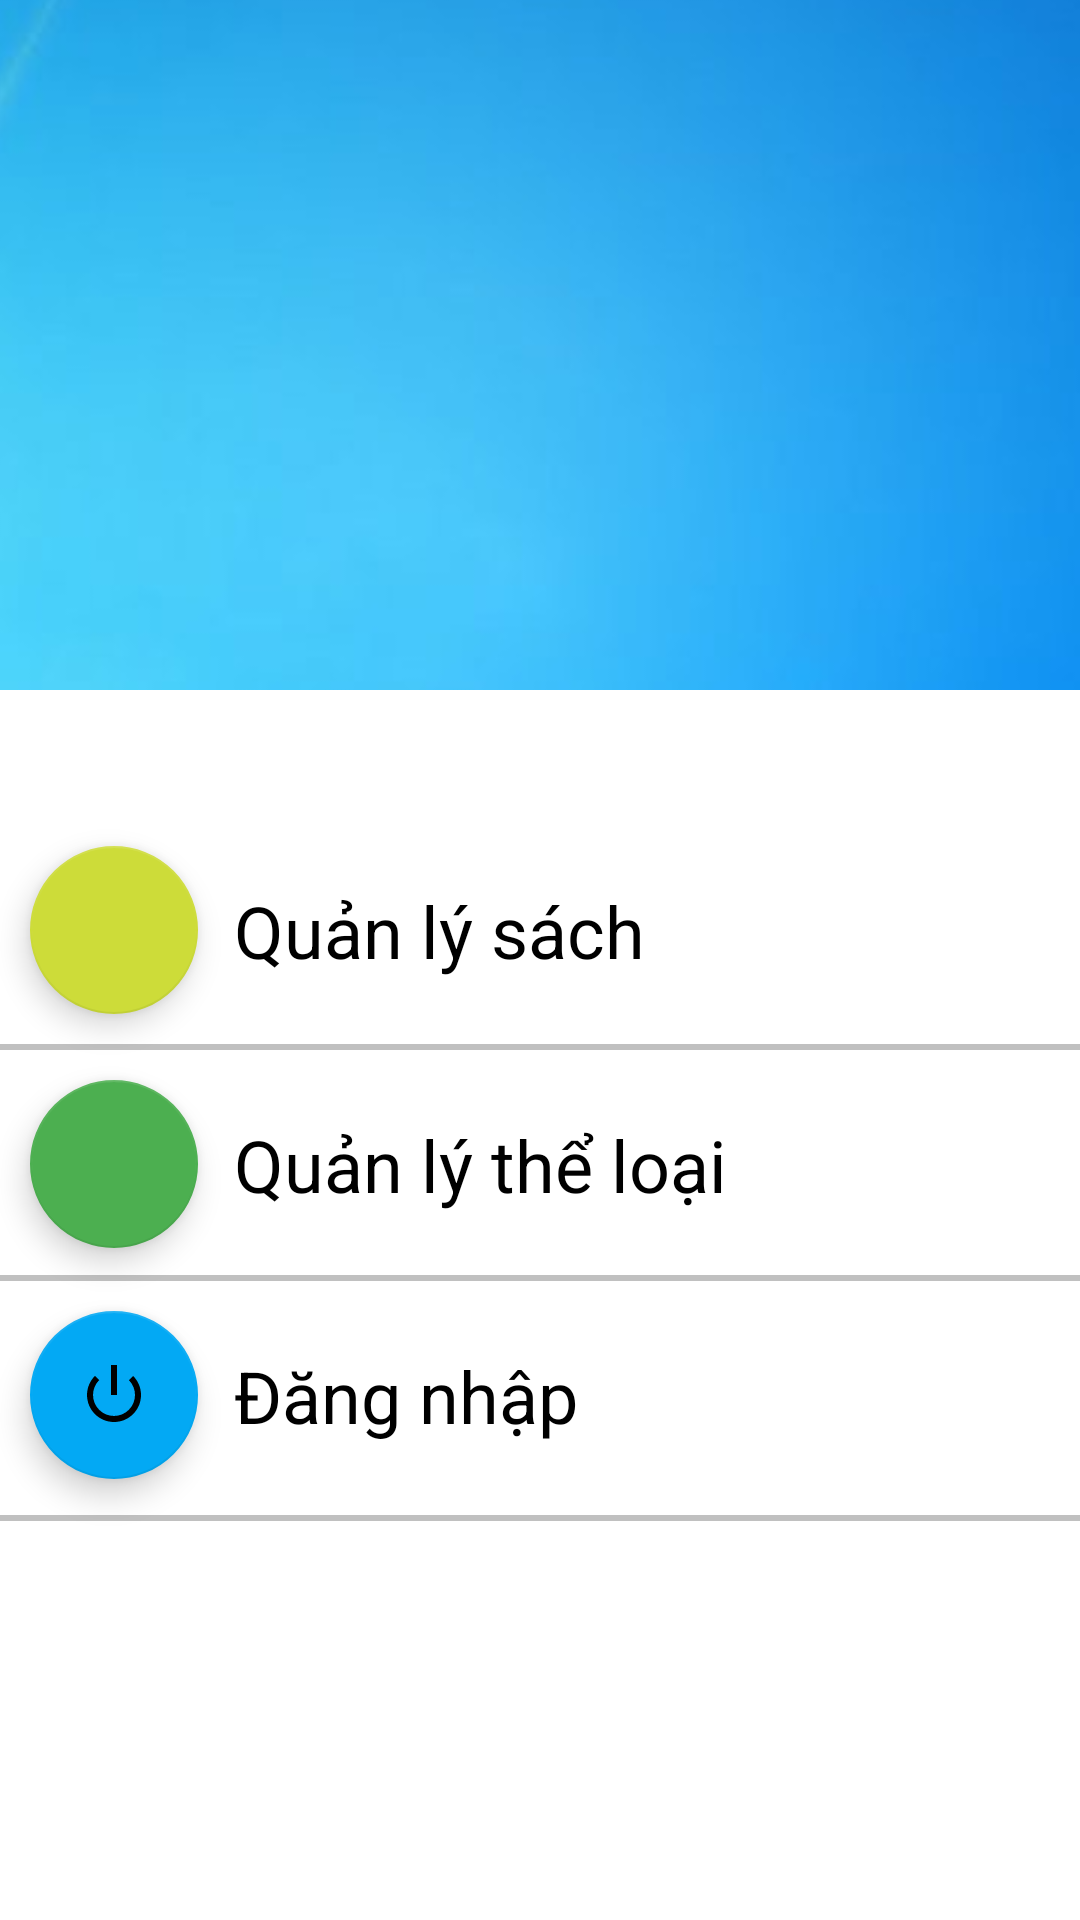

Screen size 1080*1920. Icon name, then its box in pixels as Rect(x1, y1, x2, y2):
lock power off: Rect(30, 1311, 198, 1479)
